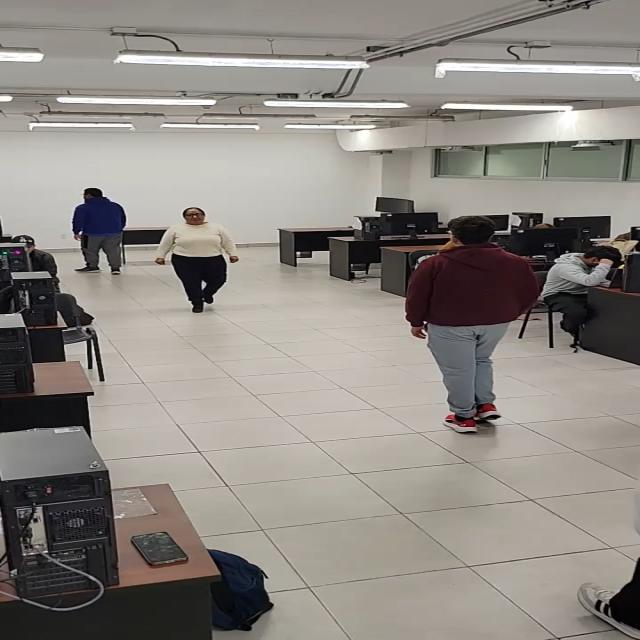Persona: (406, 217, 544, 434), (154, 207, 242, 313), (67, 187, 132, 276)
